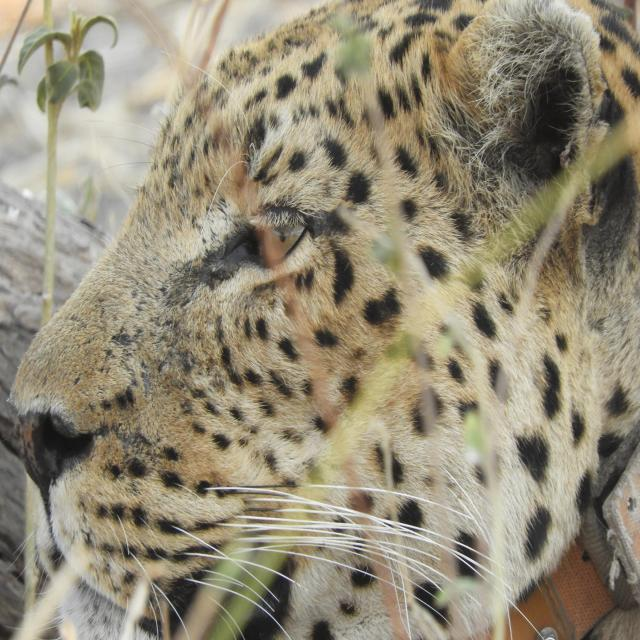Leopard: (14, 3, 626, 640)
